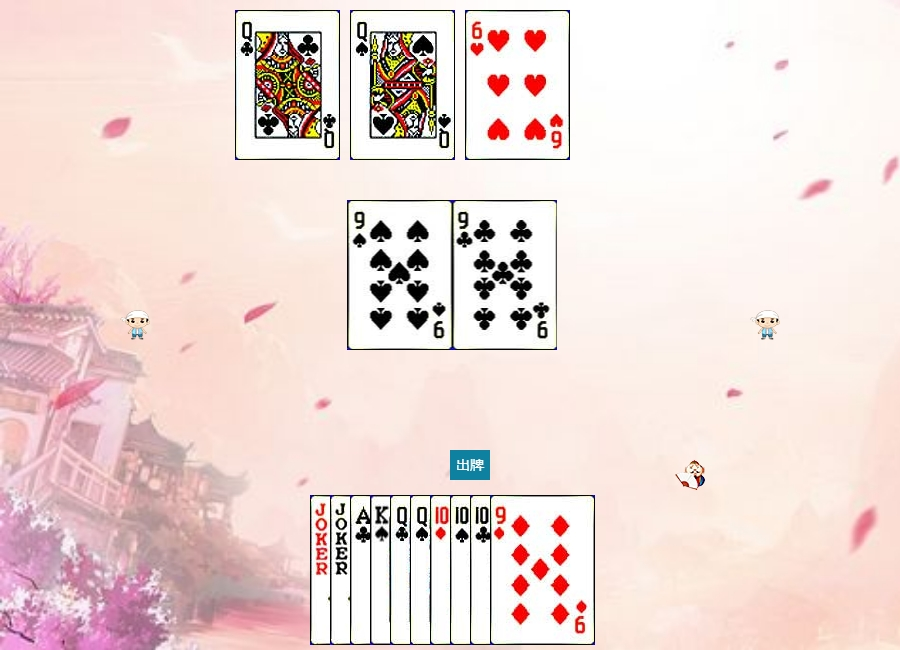10~1: (430, 495, 535, 645)
10~2: (470, 495, 575, 645)
10~4: (450, 495, 555, 645)
12~2: (235, 10, 340, 160), (390, 495, 495, 645)
12~4: (350, 10, 455, 160), (410, 495, 515, 645)
13~4: (370, 495, 475, 645)
14~2: (350, 495, 455, 645)
17~3: (330, 495, 435, 645)
18~4: (310, 495, 415, 645)
6~3: (465, 10, 570, 160)
9~1: (490, 495, 595, 645)
9~2: (453, 200, 558, 350)
9~4: (348, 200, 453, 350)
